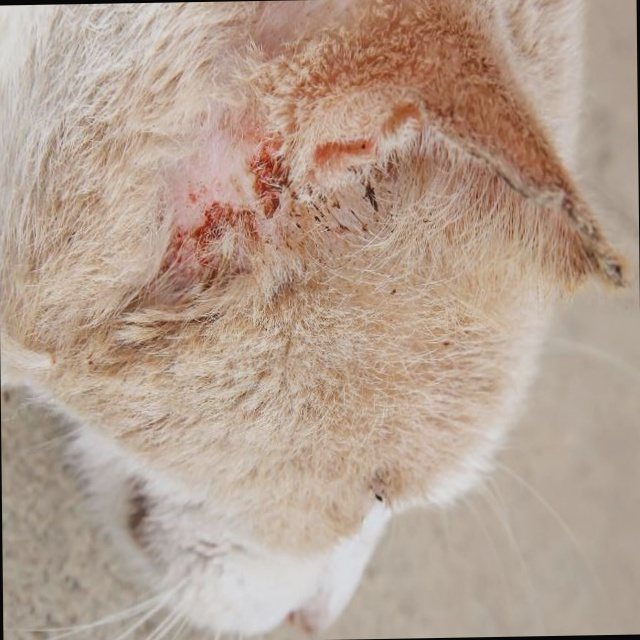ringworm: (143, 142, 379, 289)
